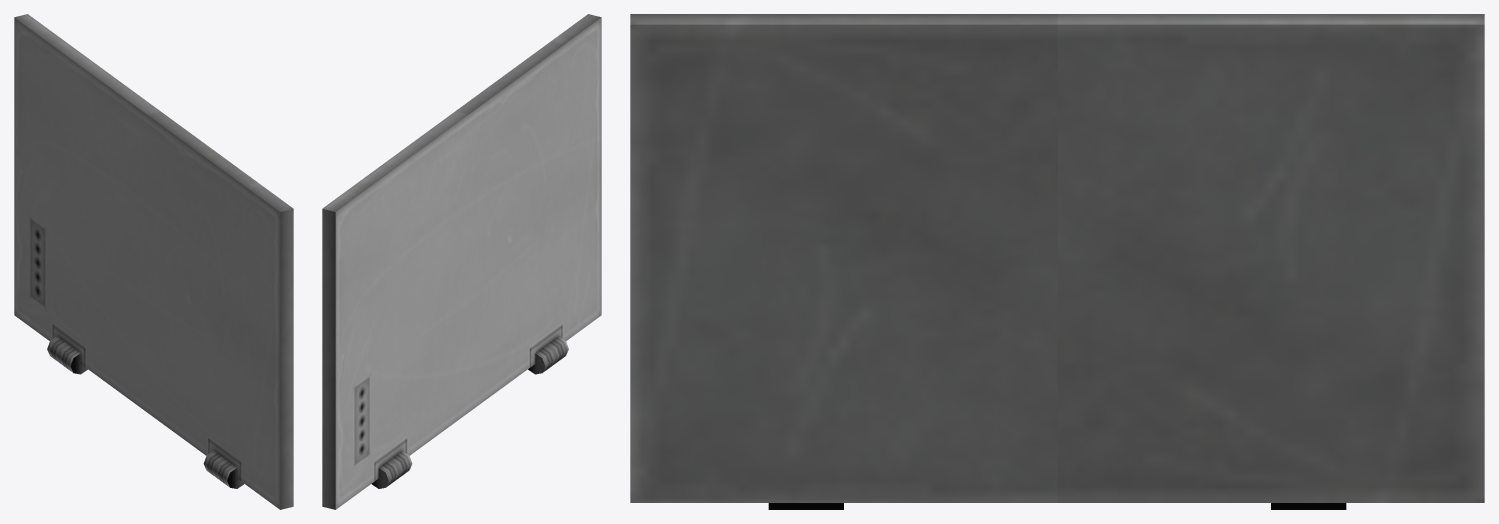
The model's file is shroud door bottom.obj.
3 renders of one model, left to right at view 1: azimuth 30°, elevation 25°; view 2: azimuth 150°, elevation 25°; view 3: azimuth 270°, elevation 25°, orthographic. The views are drawn at different scales.
Visible parts, largest first — view 1: door; view 2: door; view 3: door.
Part boxes in pixels (x1,y1,x2,y2): door: (14, 14, 293, 509); door: (322, 14, 601, 509); door: (630, 14, 1484, 509).
Size of the model in its own units: 0.0438 by 0.5437 by 0.85.
Materials: 1 (1 with a texture image).
